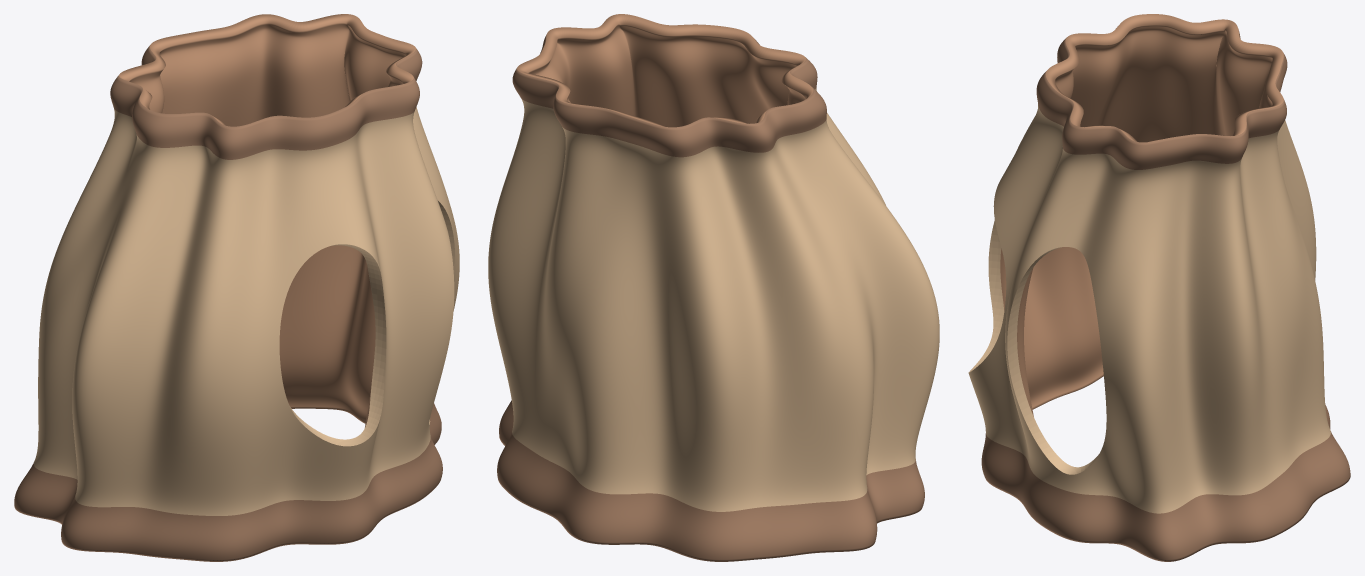
Rendered from cinder-pleat-lantern.glb.
3 views of the same model, side by side, from view 1: azimuth 30°, elevation 25°; view 2: azimuth 150°, elevation 25°; view 3: azimuth 270°, elevation 25° (orthographic).
Visible parts, largest first — view 1: single_piece_perforated_lantern; view 2: single_piece_perforated_lantern; view 3: single_piece_perforated_lantern.
Boxes of the visible parts, x1,y1,x2,y2 form: single_piece_perforated_lantern: (14,14,459,561); single_piece_perforated_lantern: (488,14,939,561); single_piece_perforated_lantern: (968,14,1350,561).
Bounding box in the file's own units: 133 × 126 × 108.
